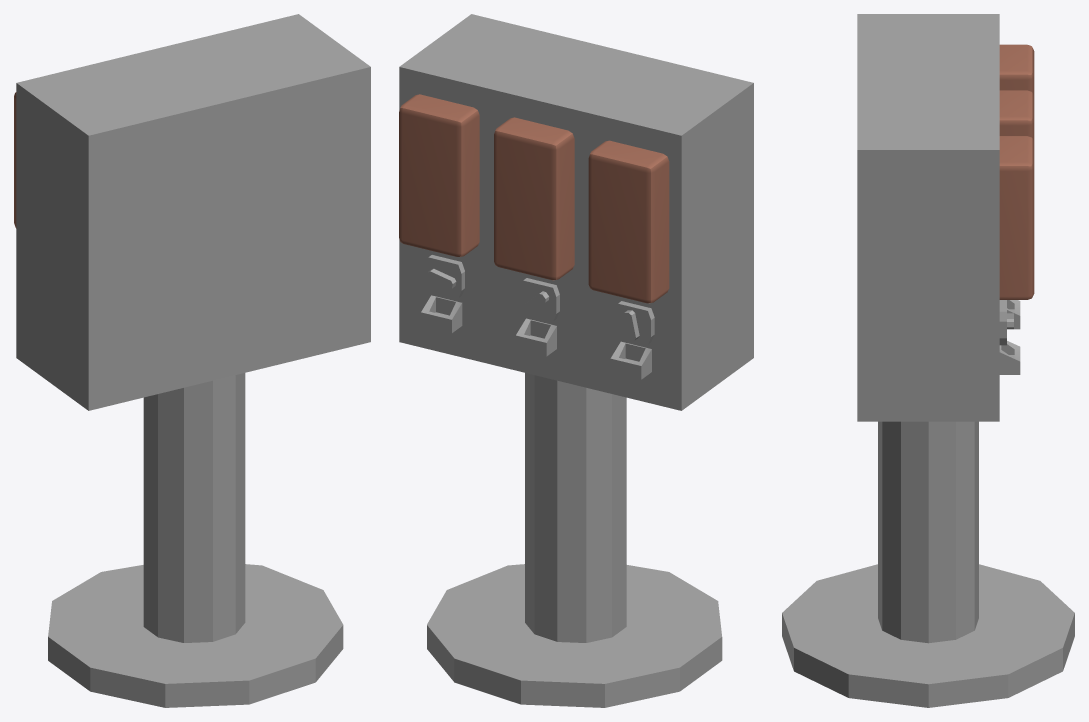
File: GumballMachiniebennie.fbx
3 renders of one model, left to right at view 1: azimuth 30°, elevation 25°; view 2: azimuth 150°, elevation 25°; view 3: azimuth 270°, elevation 25°, orthographic.
Parts seen in each view (by area): view 1: pCylinder200; view 2: pCylinder200; view 3: pCylinder200.
Boxes of the visible parts, left/top/right/bottom form: pCylinder200: left=14, top=14, right=370, bottom=707; pCylinder200: left=399, top=14, right=753, bottom=707; pCylinder200: left=782, top=14, right=1074, bottom=707.
Size of the model in its own units: 492 by 951 by 448.
